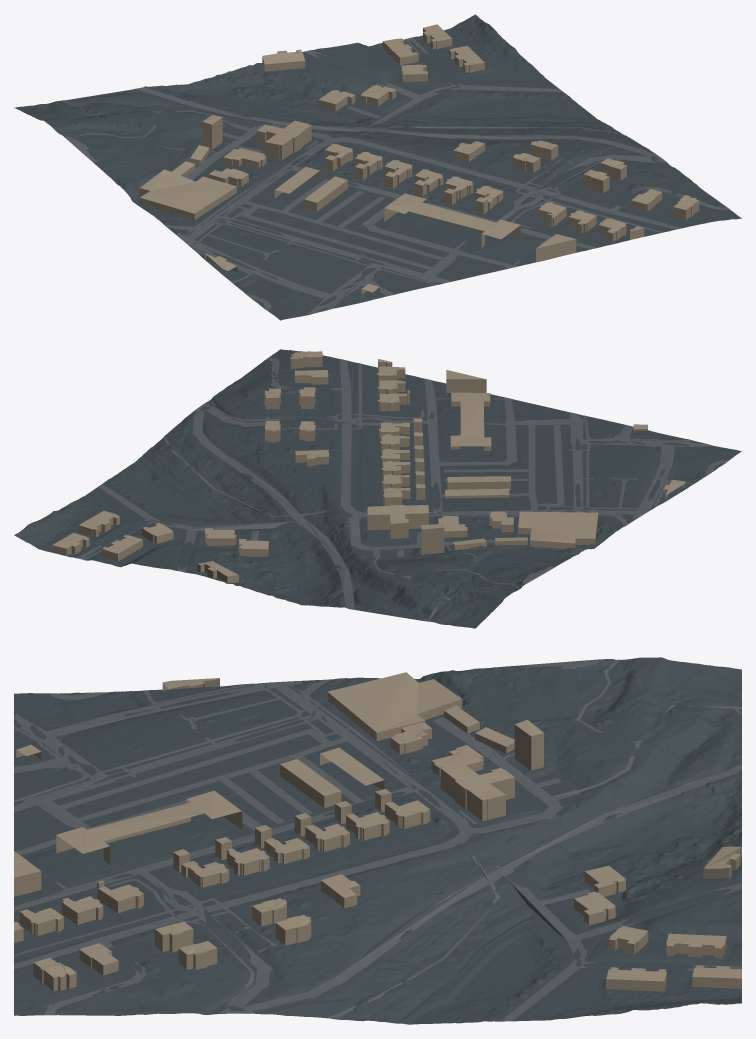
File: epsg26910-1426-10894.lod0.glb
3 views of the same model, one above another, from view 1: azimuth 30°, elevation 25°; view 2: azimuth 150°, elevation 25°; view 3: azimuth 270°, elevation 25° (orthographic). The views are drawn at different scales.
Parts seen in each view (by area): view 1: epsg26910-1426-10894-lod0; view 2: epsg26910-1426-10894-lod0; view 3: epsg26910-1426-10894-lod0.
Boxes of the visible parts, x1,y1,x2,y2 form: epsg26910-1426-10894-lod0: (14, 14, 741, 320); epsg26910-1426-10894-lod0: (14, 349, 741, 628); epsg26910-1426-10894-lod0: (14, 657, 741, 1024).
Size of the model in its own units: 384 by 41.11 by 384.
